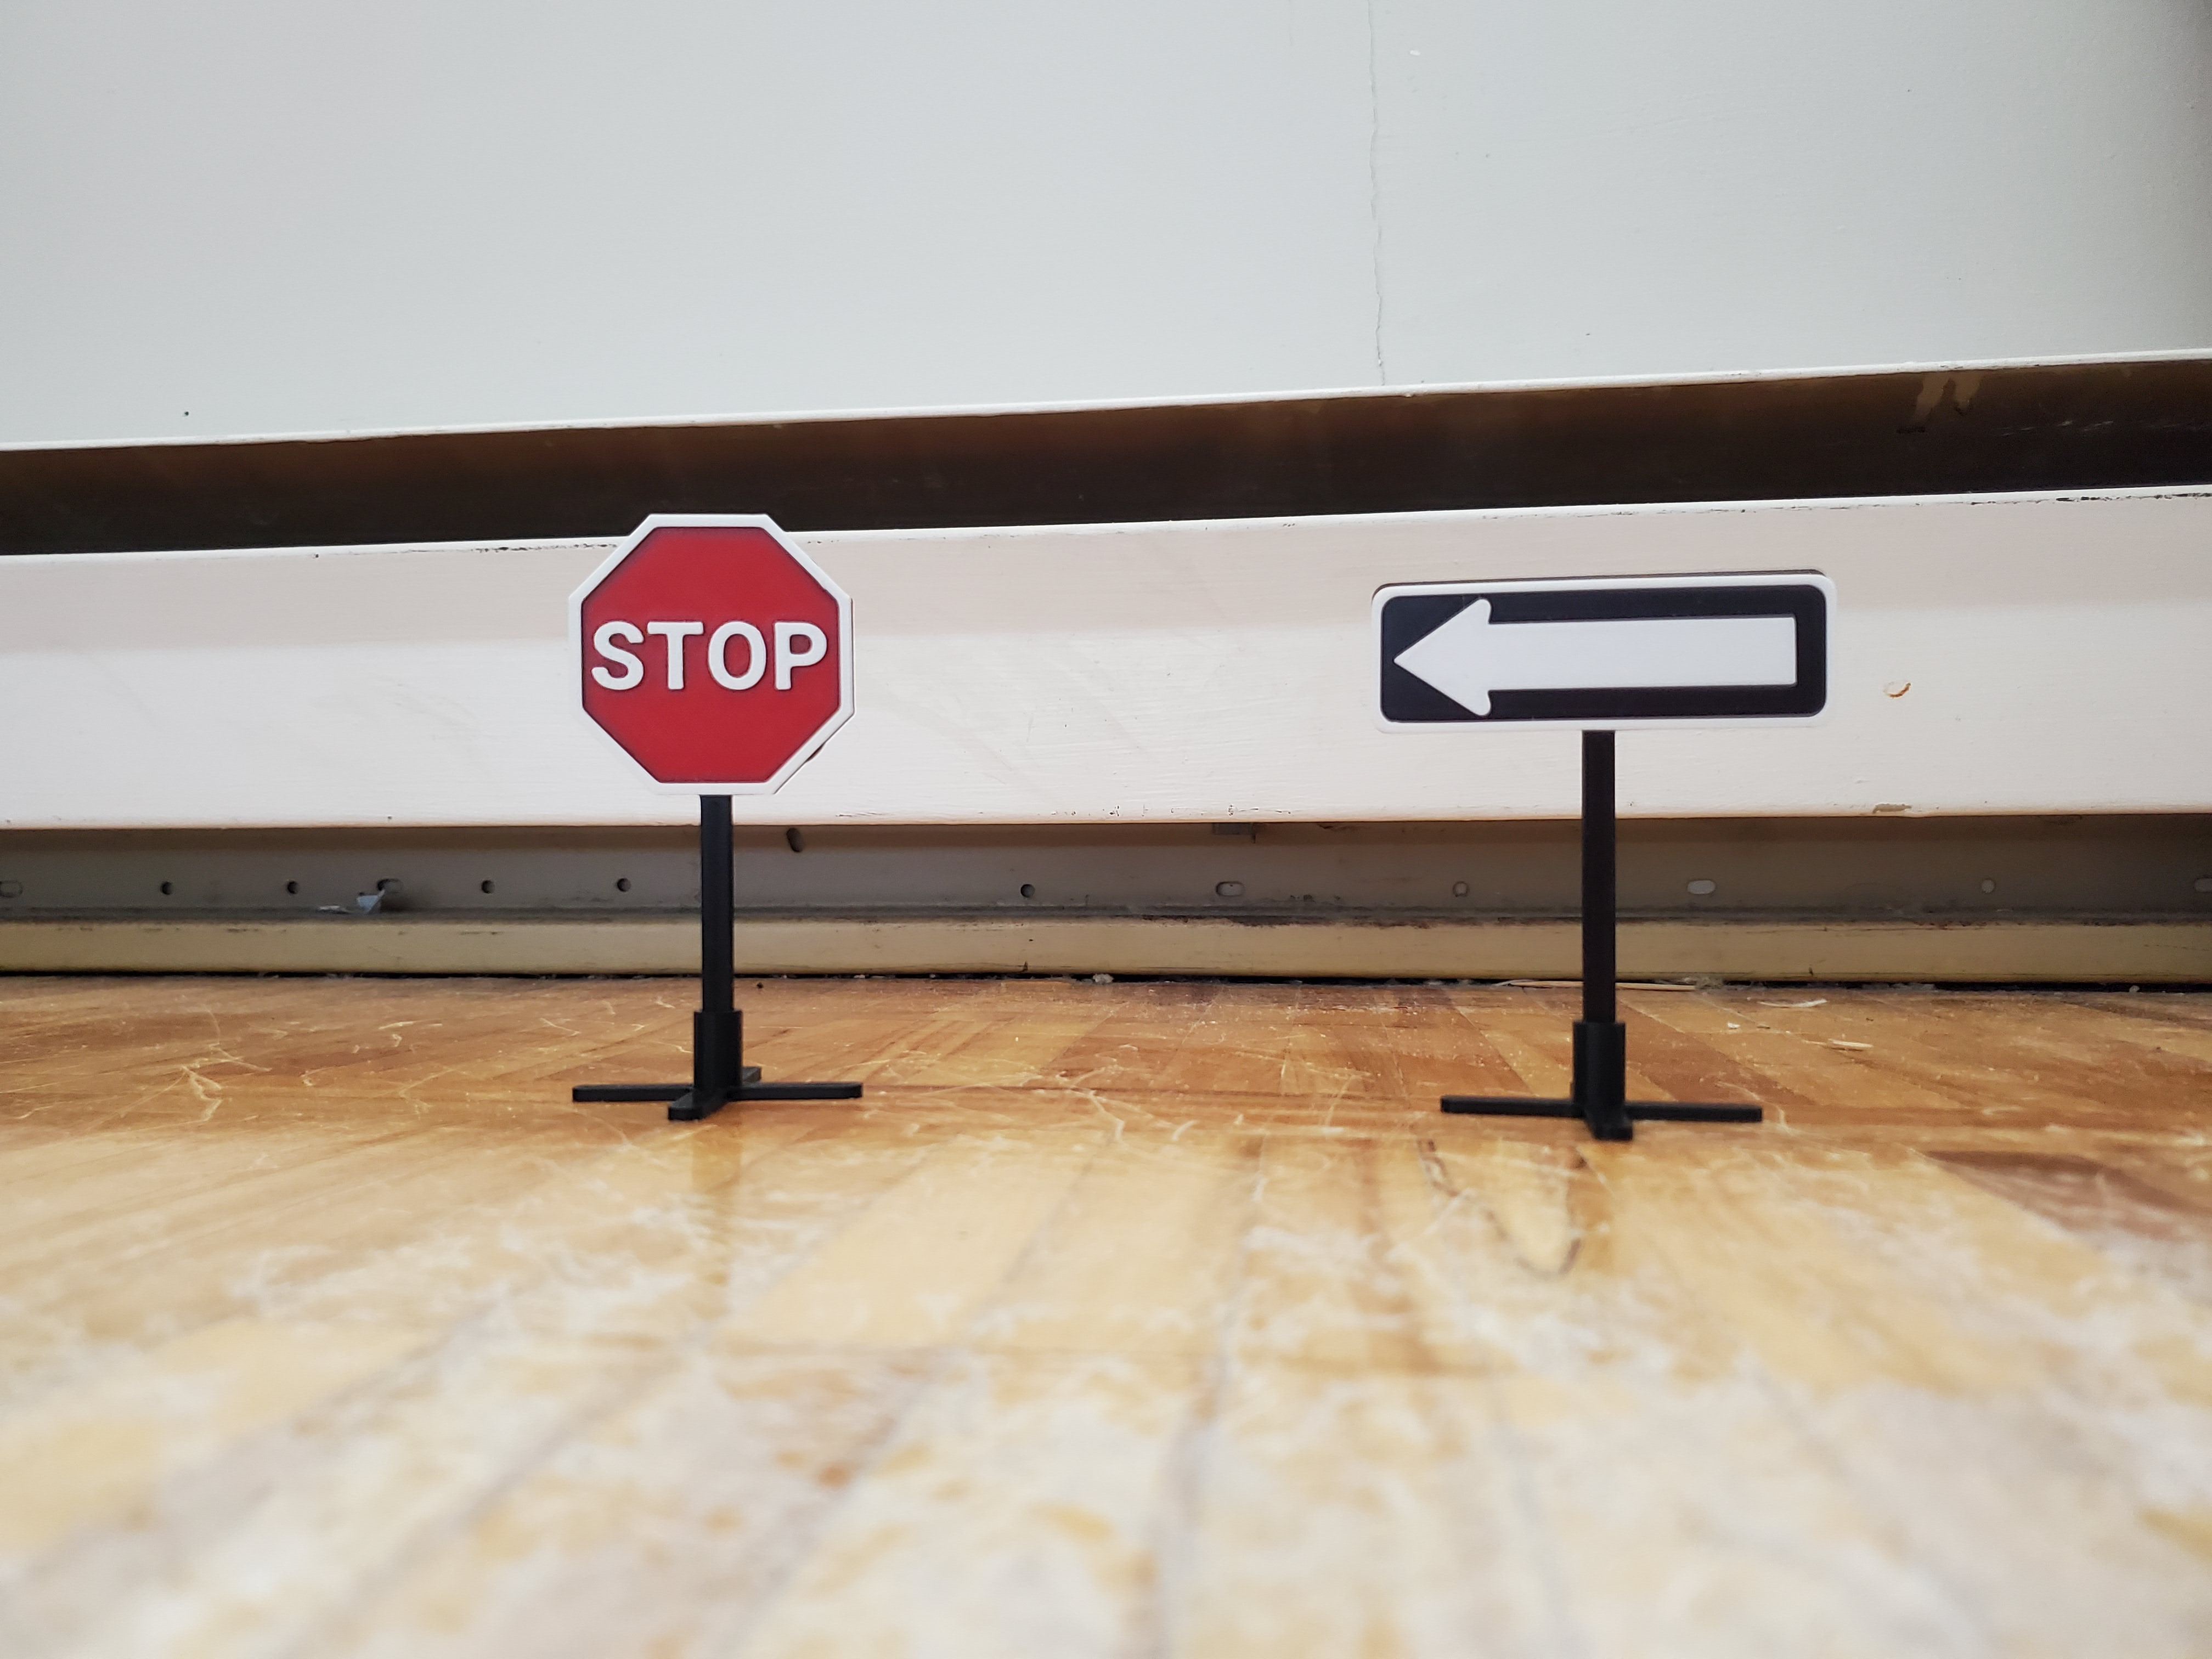sign_oneway_left: (1289, 528, 1886, 1180)
sign_stop: (462, 471, 948, 1188)
